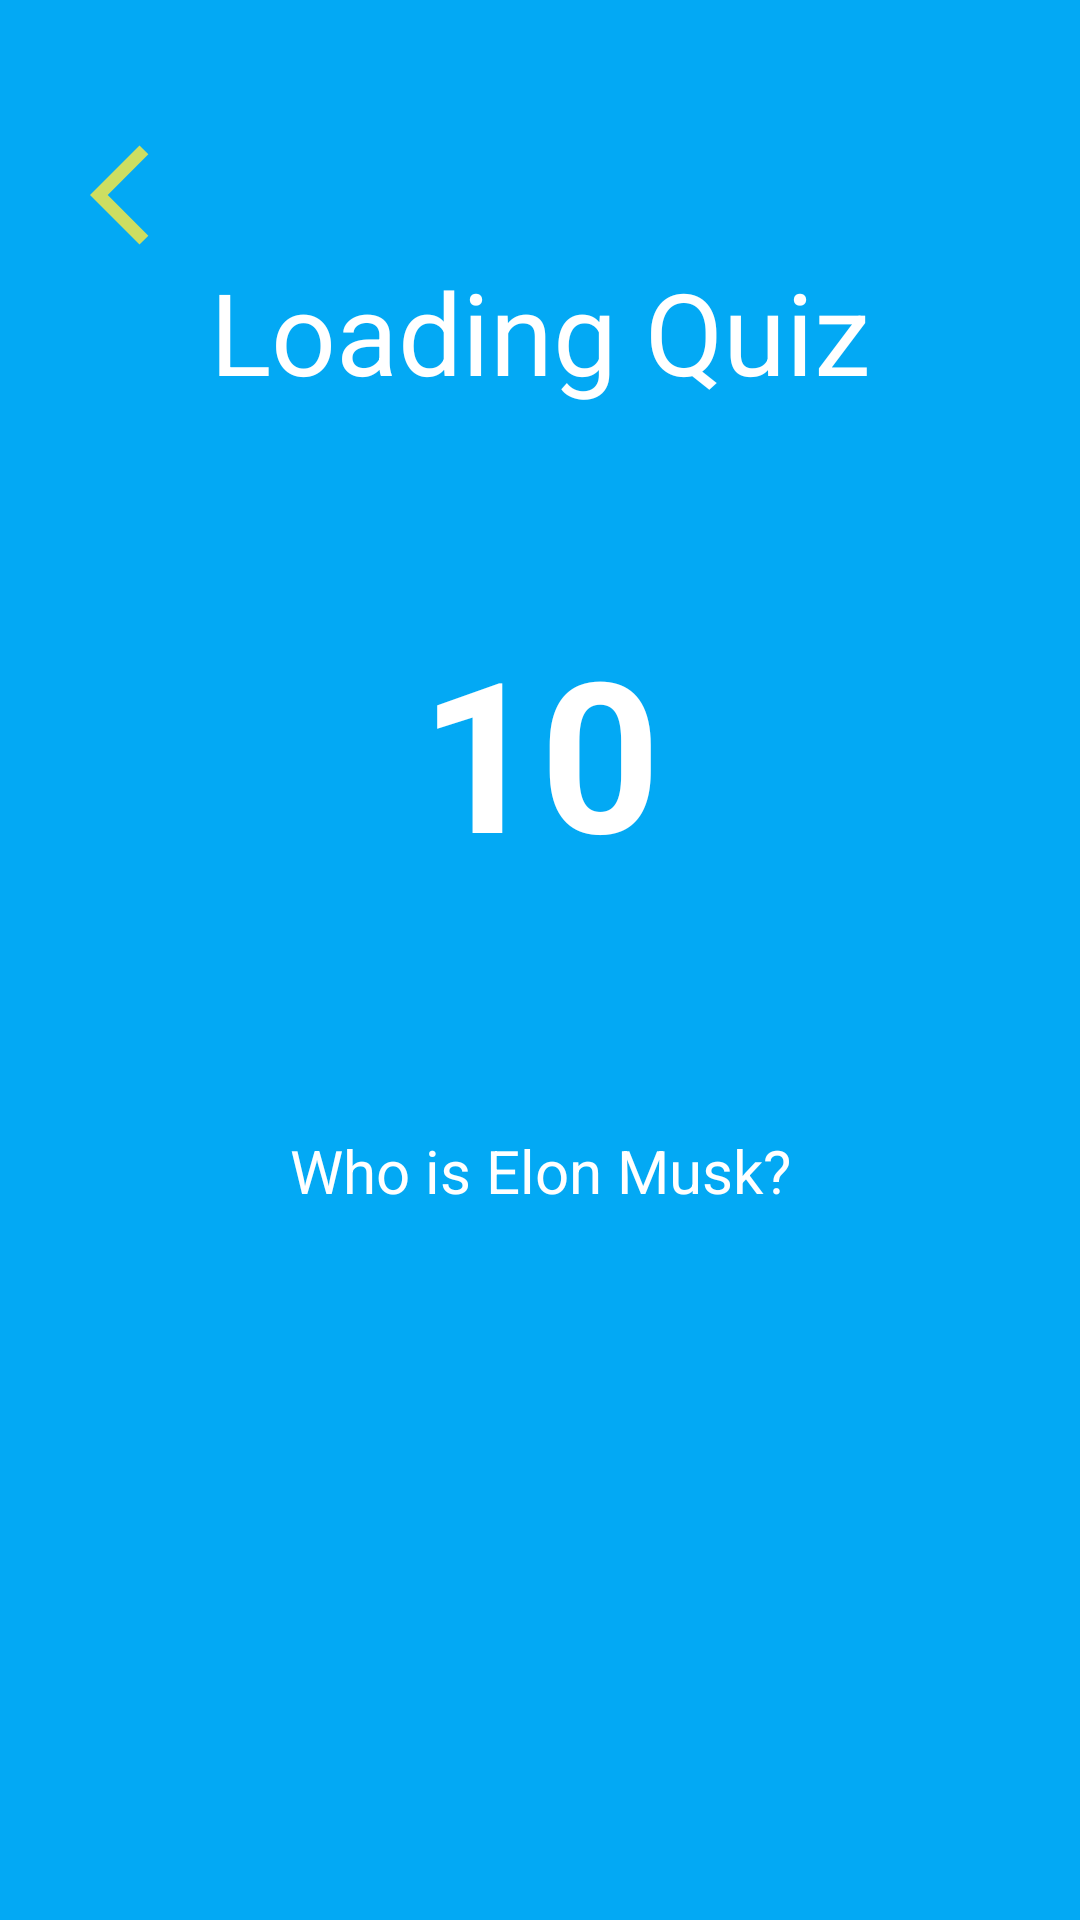

Icon click points for this 1080px×1920px phone screenshot, format (x=x, y=y):
backbutton: (x=119, y=195)
